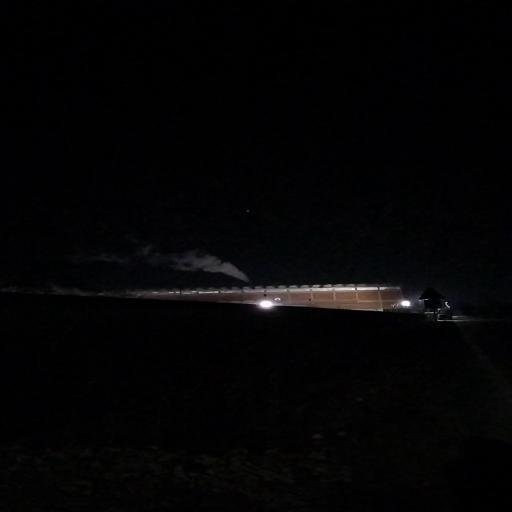leakage: (130, 232, 262, 288)
